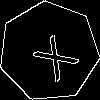X: (24, 26, 80, 83)
